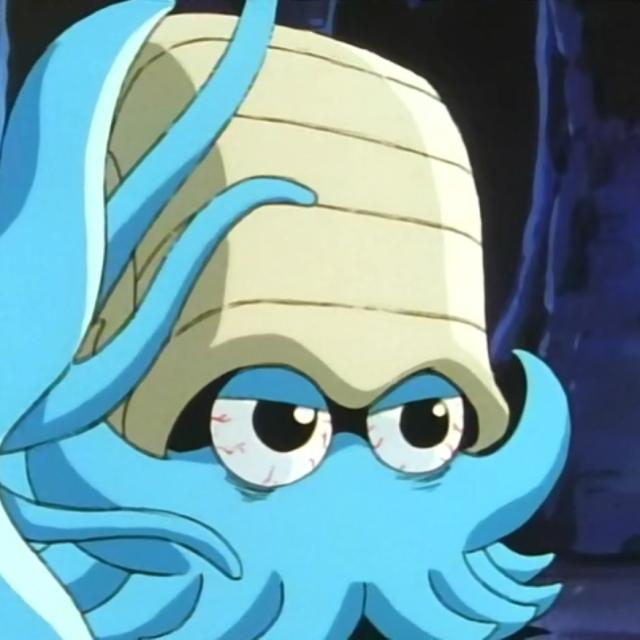Omanyte: (81, 12, 545, 630)
